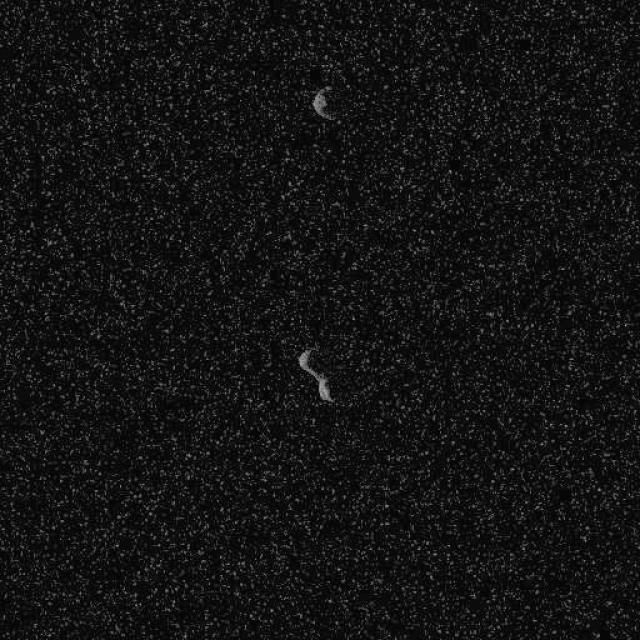D2: (296, 348, 332, 402), (310, 84, 336, 121)
